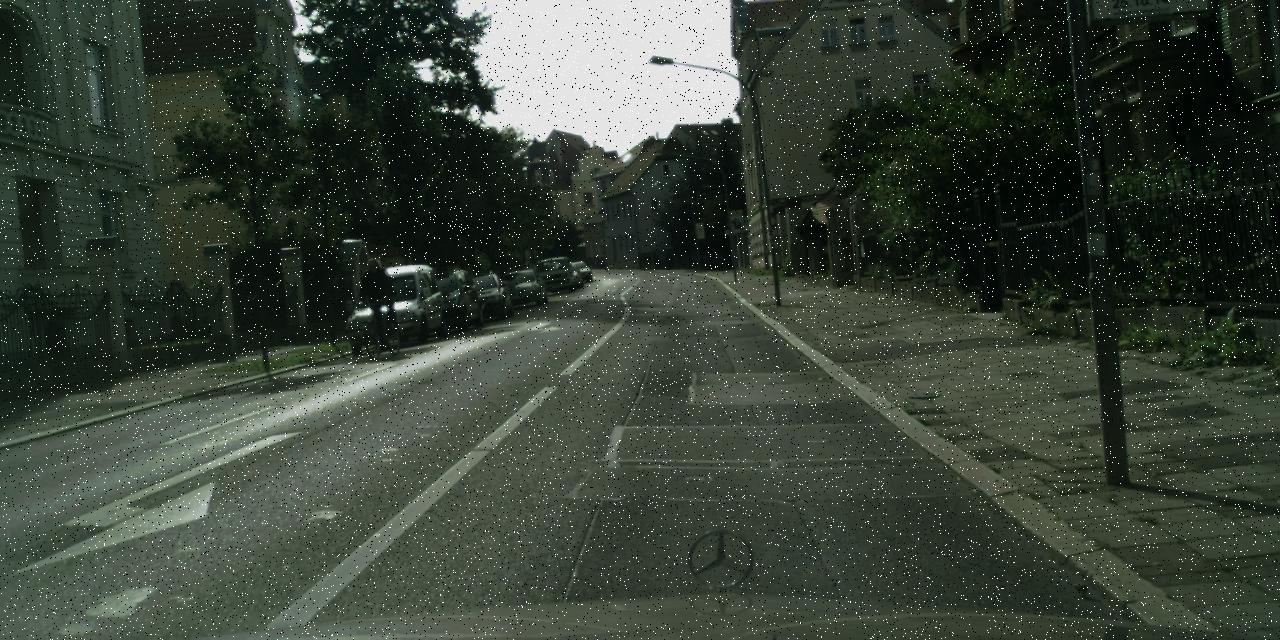ped: (363, 258, 395, 339)
